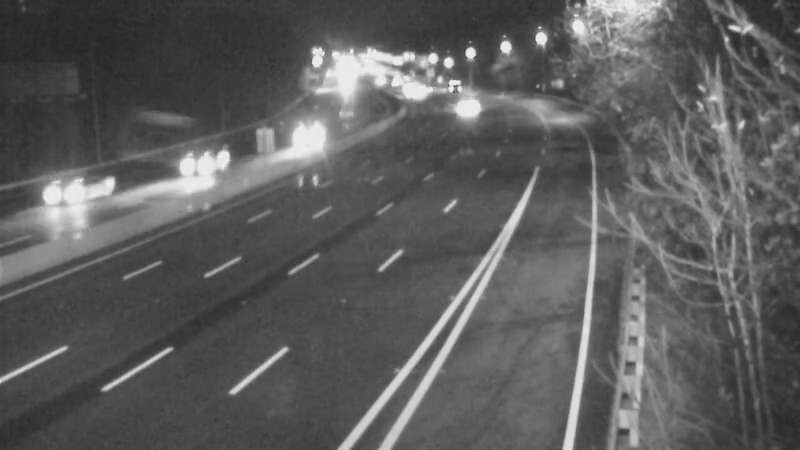vehicle: (25, 158, 105, 238), (167, 128, 247, 208), (426, 61, 476, 111), (445, 84, 495, 134), (279, 112, 329, 162)
